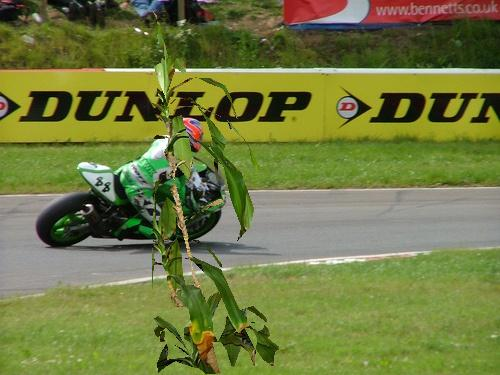tampered: (153, 11, 279, 374)
